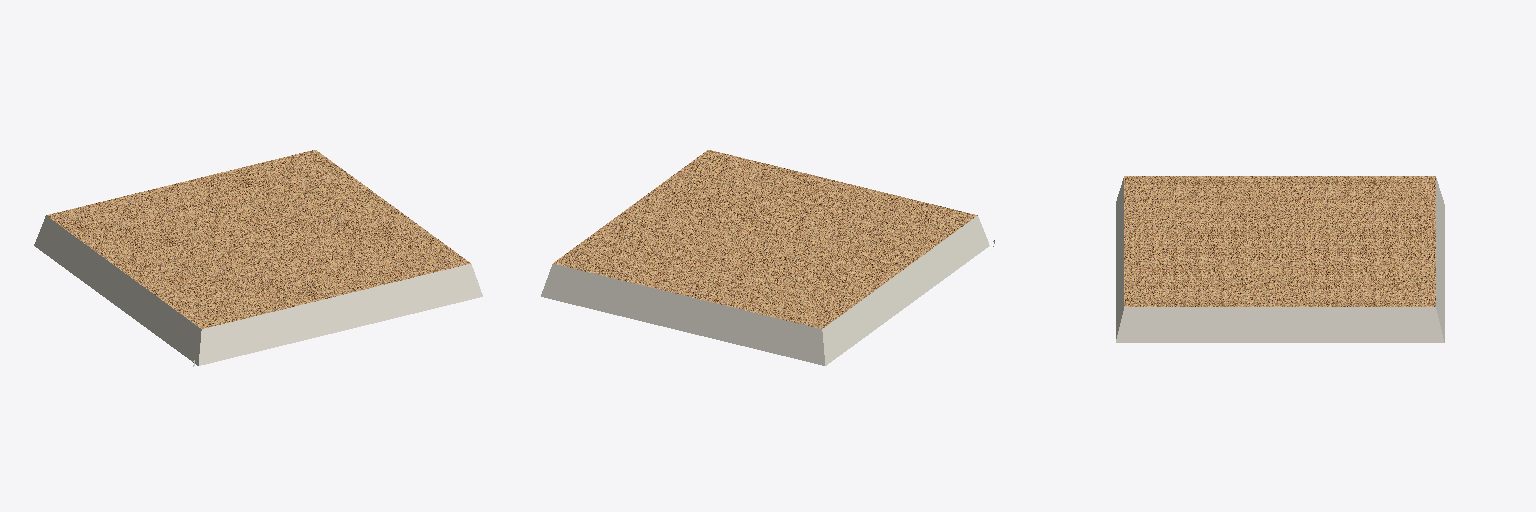
3 renders of one model, left to right at view 1: azimuth 30°, elevation 25°; view 2: azimuth 150°, elevation 25°; view 3: azimuth 270°, elevation 25°, orthographic.
Parts seen in each view (by area): view 1: Mesh1 Model; view 2: Mesh1 Model; view 3: Mesh1 Model.
Boxes of the visible parts, box(x1,y1,x2,y2) form: Mesh1 Model: box(34, 150, 482, 365); Mesh1 Model: box(541, 150, 989, 365); Mesh1 Model: box(1116, 176, 1444, 342).
Bounding box in the file's own units: 66.73 × 7 × 65.52.
3 materials, 2 textured.